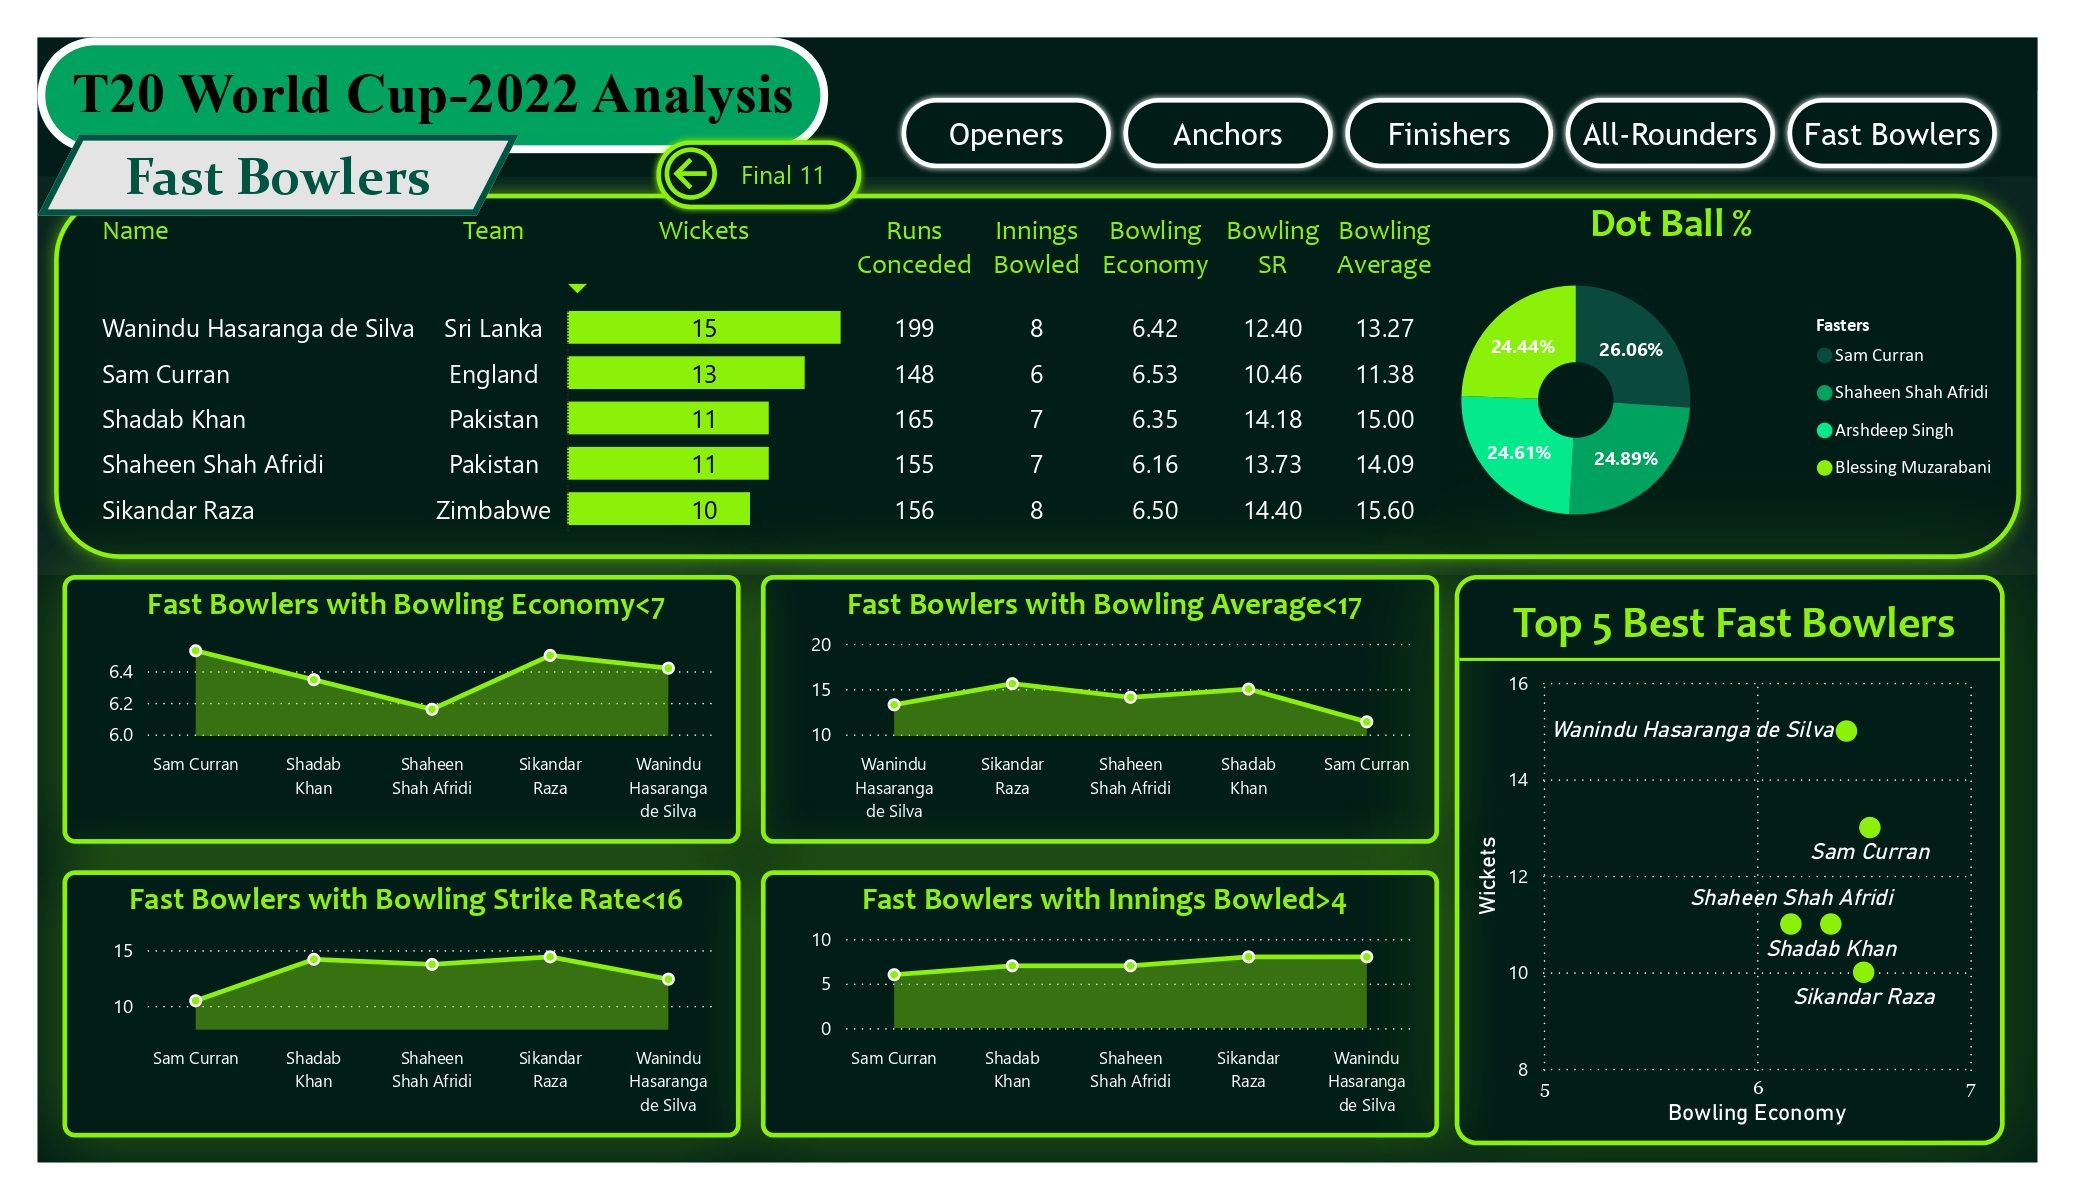

This screenshot's page, from the dashboard's own definition file:
{"tool":"powerbi","page":{"name":"Fast Bowlers","canvas":[1280,720],"ordinal":4},"visuals":[{"type":"shape","box":[0,0,506,73.7],"z":0},{"type":"shape","box":[0,88.6,1280,255.7],"z":1000},{"type":"tableEx","fields":{"Values":["dim_players.name","dim_players.team","Key measures.Wickets","Key measures.Runs Conceded","Key measures.Total Innings Bowled","Key measures.Bowling Economy","Key measures.Bowling Strike Rate","Key measures.Bowling Average"]},"box":[30,102.9,890,228.6],"z":2000},{"type":"stackedAreaChart","title":"Fast Bowlers with Bowling Average<17","fields":{"Y":["Key measures.Bowling Average"],"Category":["dim_players.name"]},"box":[462.9,344.3,434.3,171.4],"z":3000},{"type":"stackedAreaChart","title":"Fast Bowlers with Bowling Economy<7","fields":{"Category":["dim_players.name"],"Y":["Key measures.Bowling Economy"]},"box":[15.7,344.3,434.3,171.4],"z":4000},{"type":"stackedAreaChart","title":"Fast Bowlers with Bowling Strike Rate<16","fields":{"Category":["dim_players.name"],"Y":["Key measures.Bowling Strike Rate"]},"box":[15.7,532.9,434.3,171.4],"z":5000},{"type":"stackedAreaChart","title":"Fast Bowlers with Innings Bowled>4","fields":{"Category":["dim_players.name"],"Y":["Key measures.Total Innings Bowled"]},"box":[462.9,532.9,434.3,171.4],"z":6000},{"type":"scatterChart","title":"Top 5 Best Fast Bowlers","fields":{"X":["Key measures.Bowling Economy"],"Category":["dim_players.name"],"Y":["Key measures.Wickets"]},"box":[907.1,344.3,351.4,364.3],"z":7000},{"type":"shape","box":[0,62.2,308,52],"z":8000},{"type":"donutChart","title":"Dot Ball %","fields":{"Y":["Key measures.Dot ball %"],"Category":["dim_players.name"]},"box":[831.4,102.9,448.6,228.6],"z":9000},{"type":"shape","box":[0,5.8,506,62.2],"z":10000},{"type":"actionButton","box":[549.4,34.7,141.7,53.5],"z":11000},{"type":"actionButton","box":[691.1,34.7,141.7,53.5],"z":12000},{"type":"actionButton","box":[832.8,34.7,141.7,53.5],"z":13000},{"type":"actionButton","box":[974.5,34.7,141.7,53.5],"z":14000},{"type":"actionButton","box":[1116.1,34.7,141.7,53.5],"z":15000},{"type":"actionButton","box":[391.8,60.7,140.2,53.5],"z":16000}]}

Visuals, with their boxes on the page's 1280x720 design canvas (x1, y1, x2, y2). These are canvas units, not pixel positions in the 2075x1200 screenshot, which may show the page scaled, cropped or inside an application window:
shape: detection(0, 0, 506, 74)
shape: detection(0, 89, 1280, 344)
tableEx - dim_players.name x dim_players.team: detection(30, 103, 920, 332)
"Fast Bowlers with Bowling Average<17" stackedAreaChart: detection(463, 344, 897, 516)
"Fast Bowlers with Bowling Economy<7" stackedAreaChart: detection(16, 344, 450, 516)
"Fast Bowlers with Bowling Strike Rate<16" stackedAreaChart: detection(16, 533, 450, 704)
"Fast Bowlers with Innings Bowled>4" stackedAreaChart: detection(463, 533, 897, 704)
"Top 5 Best Fast Bowlers" scatterChart: detection(907, 344, 1258, 709)
shape: detection(0, 62, 308, 114)
"Dot Ball %" donutChart: detection(831, 103, 1280, 332)
shape: detection(0, 6, 506, 68)
actionButton: detection(549, 35, 691, 88)
actionButton: detection(691, 35, 833, 88)
actionButton: detection(833, 35, 974, 88)
actionButton: detection(974, 35, 1116, 88)
actionButton: detection(1116, 35, 1258, 88)
actionButton: detection(392, 61, 532, 114)
